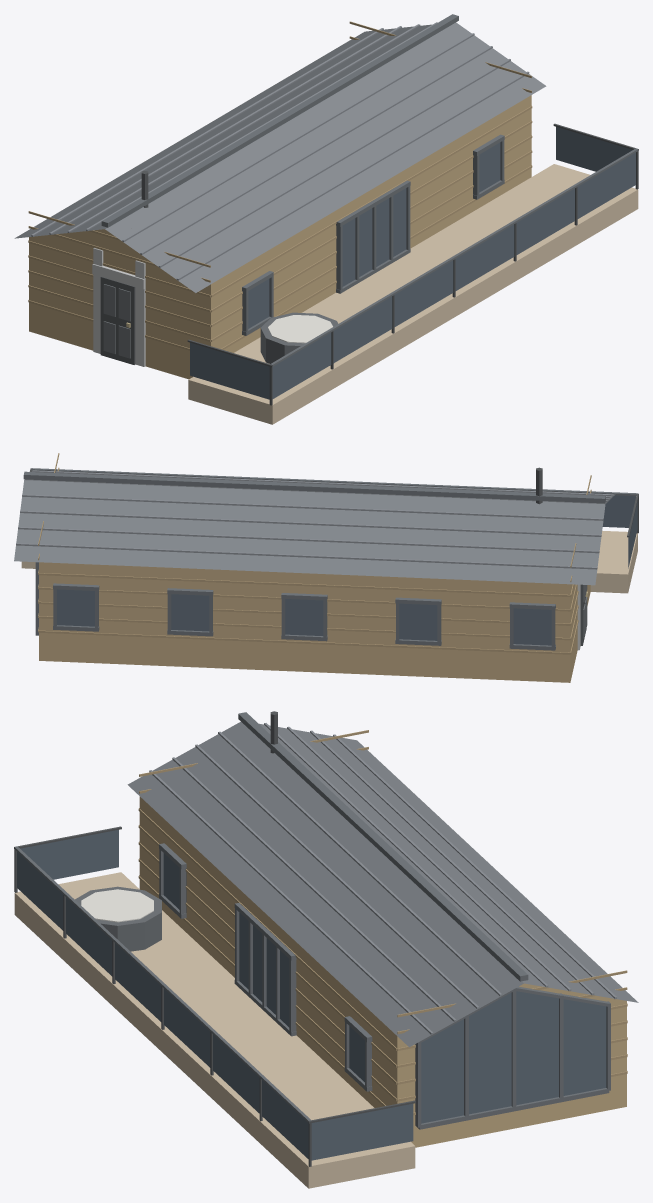
3 views of the same model, one above another, from view 1: azimuth 30°, elevation 25°; view 2: azimuth 150°, elevation 25°; view 3: azimuth 270°, elevation 25° (orthographic). The views are drawn at different scales.
Visible parts, largest first — view 1: slate, door_wood, larch, slate_dk, slate_lt, door_wood_p, window_glass_007, stone_band, window_glass_002, window_glass_003, window_glass_004, window_glass_001 (+14 smaller); view 2: slate, door_wood, slate_dk, slate_lt, door_wood_p, larch, window_glass_020, window_glass_017, window_glass_019, window_glass_018, window_glass_016, window_glass_001 (+1 smaller); view 3: slate, larch, door_wood, window_glass_015, slate_dk, slate_lt, door_wood_p, window_glass_008, window_glass_007, pipe, band_dark, string (+12 smaller).
Part boxes in pixels (bbox=[...]): slate: bbox=[14, 22, 546, 292]; door_wood: bbox=[29, 95, 531, 379]; larch: bbox=[188, 164, 638, 424]; slate_dk: bbox=[101, 14, 638, 366]; slate_lt: bbox=[31, 22, 529, 280]; door_wood_p: bbox=[28, 21, 532, 350]; window_glass_007: bbox=[190, 342, 269, 399]; stone_band: bbox=[92, 248, 145, 366]; window_glass_002: bbox=[333, 296, 392, 362]; window_glass_003: bbox=[394, 260, 453, 326]; window_glass_004: bbox=[455, 224, 514, 290]; window_glass_001: bbox=[272, 332, 331, 398]; slate: bbox=[14, 470, 615, 585]; door_wood: bbox=[39, 562, 590, 682]; slate_dk: bbox=[23, 468, 637, 650]; slate_lt: bbox=[16, 470, 613, 569]; door_wood_p: bbox=[38, 453, 591, 654]; larch: bbox=[21, 531, 637, 593]; window_glass_020: bbox=[513, 608, 551, 645]; window_glass_017: bbox=[171, 594, 209, 631]; window_glass_019: bbox=[399, 603, 437, 640]; window_glass_018: bbox=[285, 599, 323, 635]; window_glass_016: bbox=[57, 589, 94, 626]; window_glass_001: bbox=[602, 495, 635, 527]; slate: bbox=[127, 721, 638, 1047]; larch: bbox=[14, 872, 415, 1188]; door_wood: bbox=[139, 796, 626, 1147]; window_glass_015: bbox=[421, 991, 606, 1123]; slate_dk: bbox=[14, 712, 610, 1129]; slate_lt: bbox=[149, 723, 616, 1034]; door_wood_p: bbox=[138, 730, 627, 1115]; window_glass_008: bbox=[311, 1103, 413, 1160]; window_glass_007: bbox=[20, 830, 118, 879]; pipe: bbox=[14, 711, 415, 1166]; band_dark: bbox=[75, 886, 161, 951]; string: bbox=[81, 889, 153, 922].
Size of the model in its own units: 16.16 by 4.39 by 12.79.
